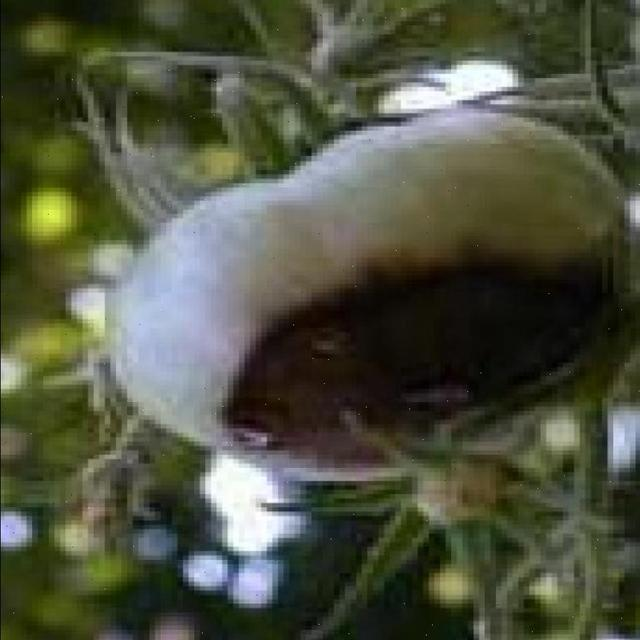Blossom End Rot Fruit: (138, 164, 406, 319)
